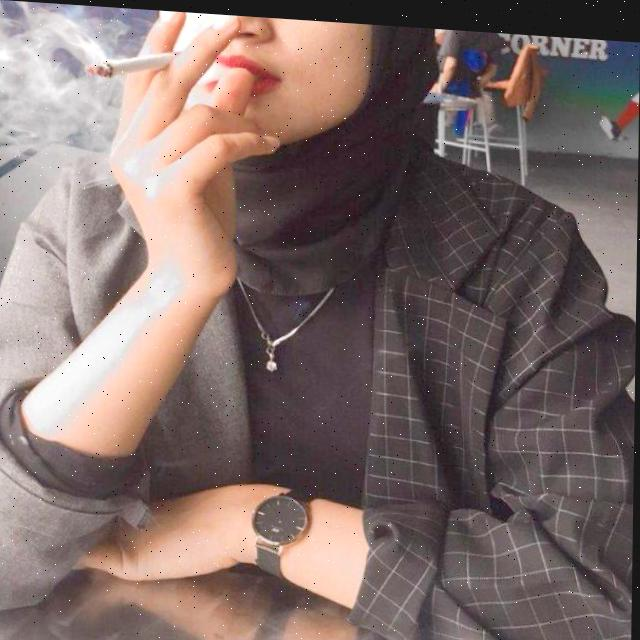cigarette: (81, 46, 178, 80)
